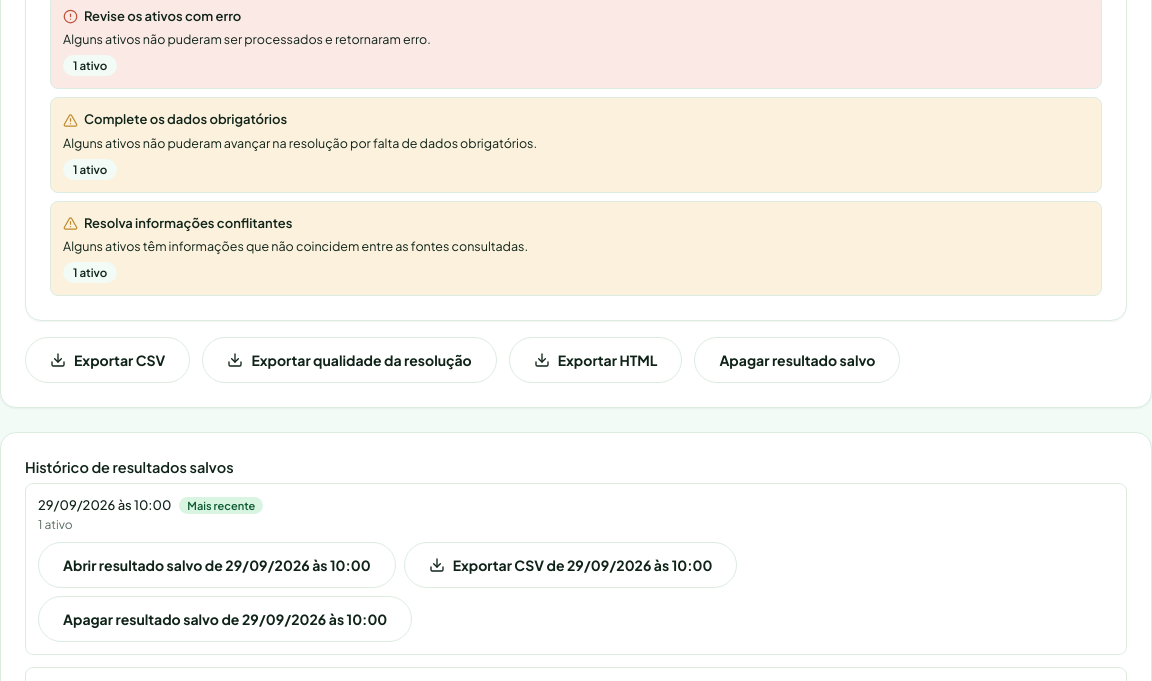
integration across result sources › 13. disappears when the displayed snapshot is deleted
The width and height of the screenshot is (1152, 681).
(page scrolled)
Click the button "Apagar resultado salvo".
click(797, 360)  # box [694,337,900,383]
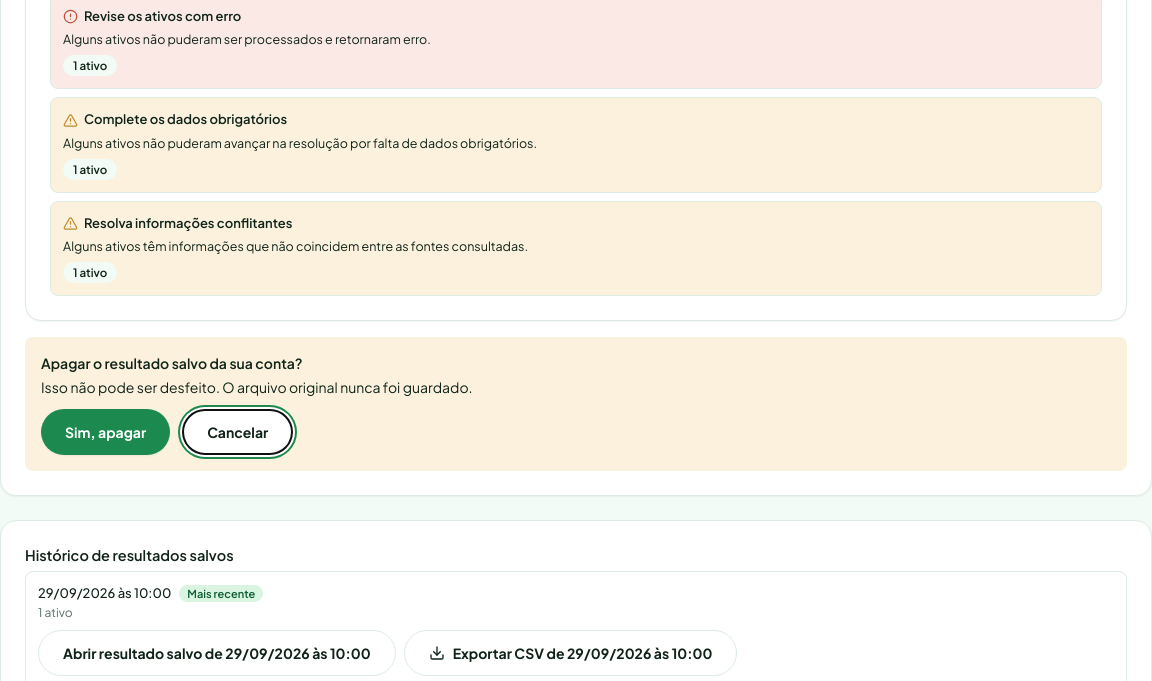
Click the button "Sim, apagar".
click(106, 432)  # box [41,409,170,455]
(page scrolled)
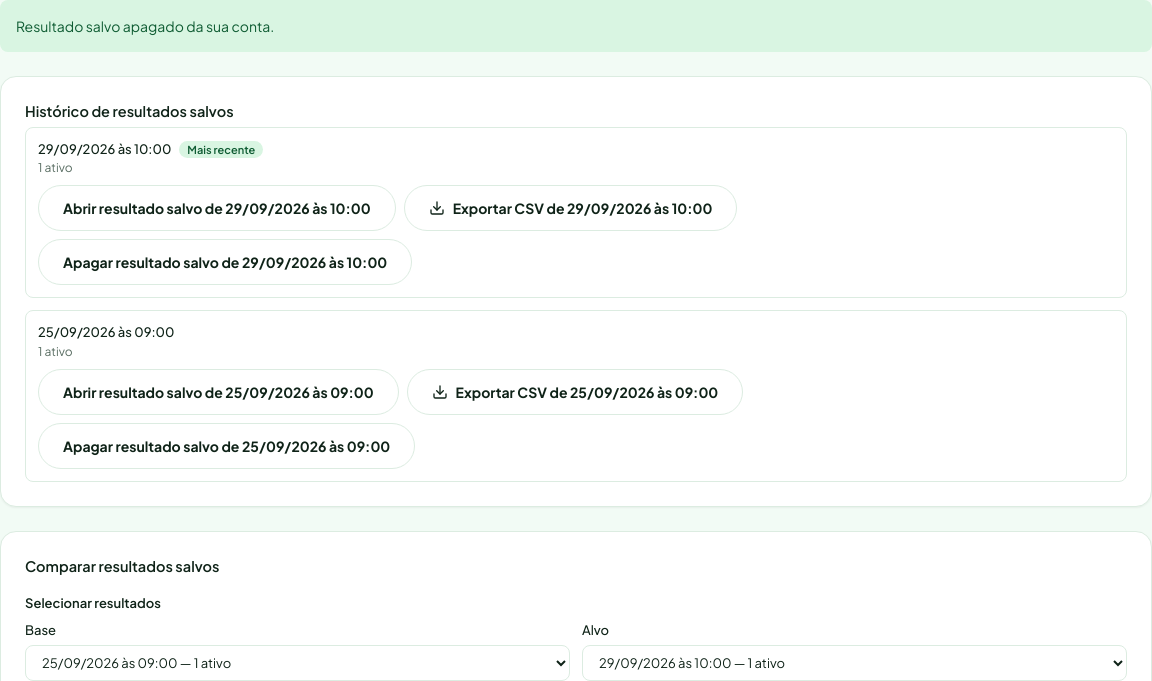
Now the text "Resultado salvo apagado da sua conta." is shown, box [16,17,274,35]
